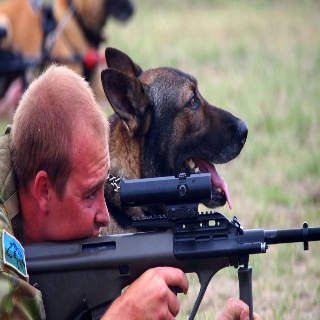rifle: (16, 172, 320, 320)
